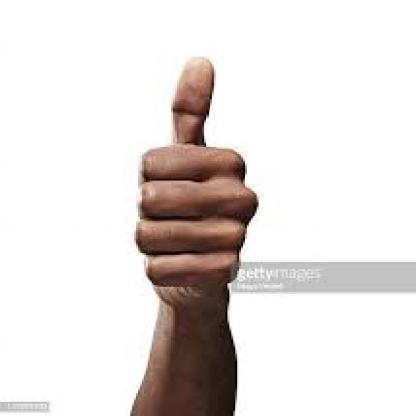thumb_up: (129, 51, 262, 309)
